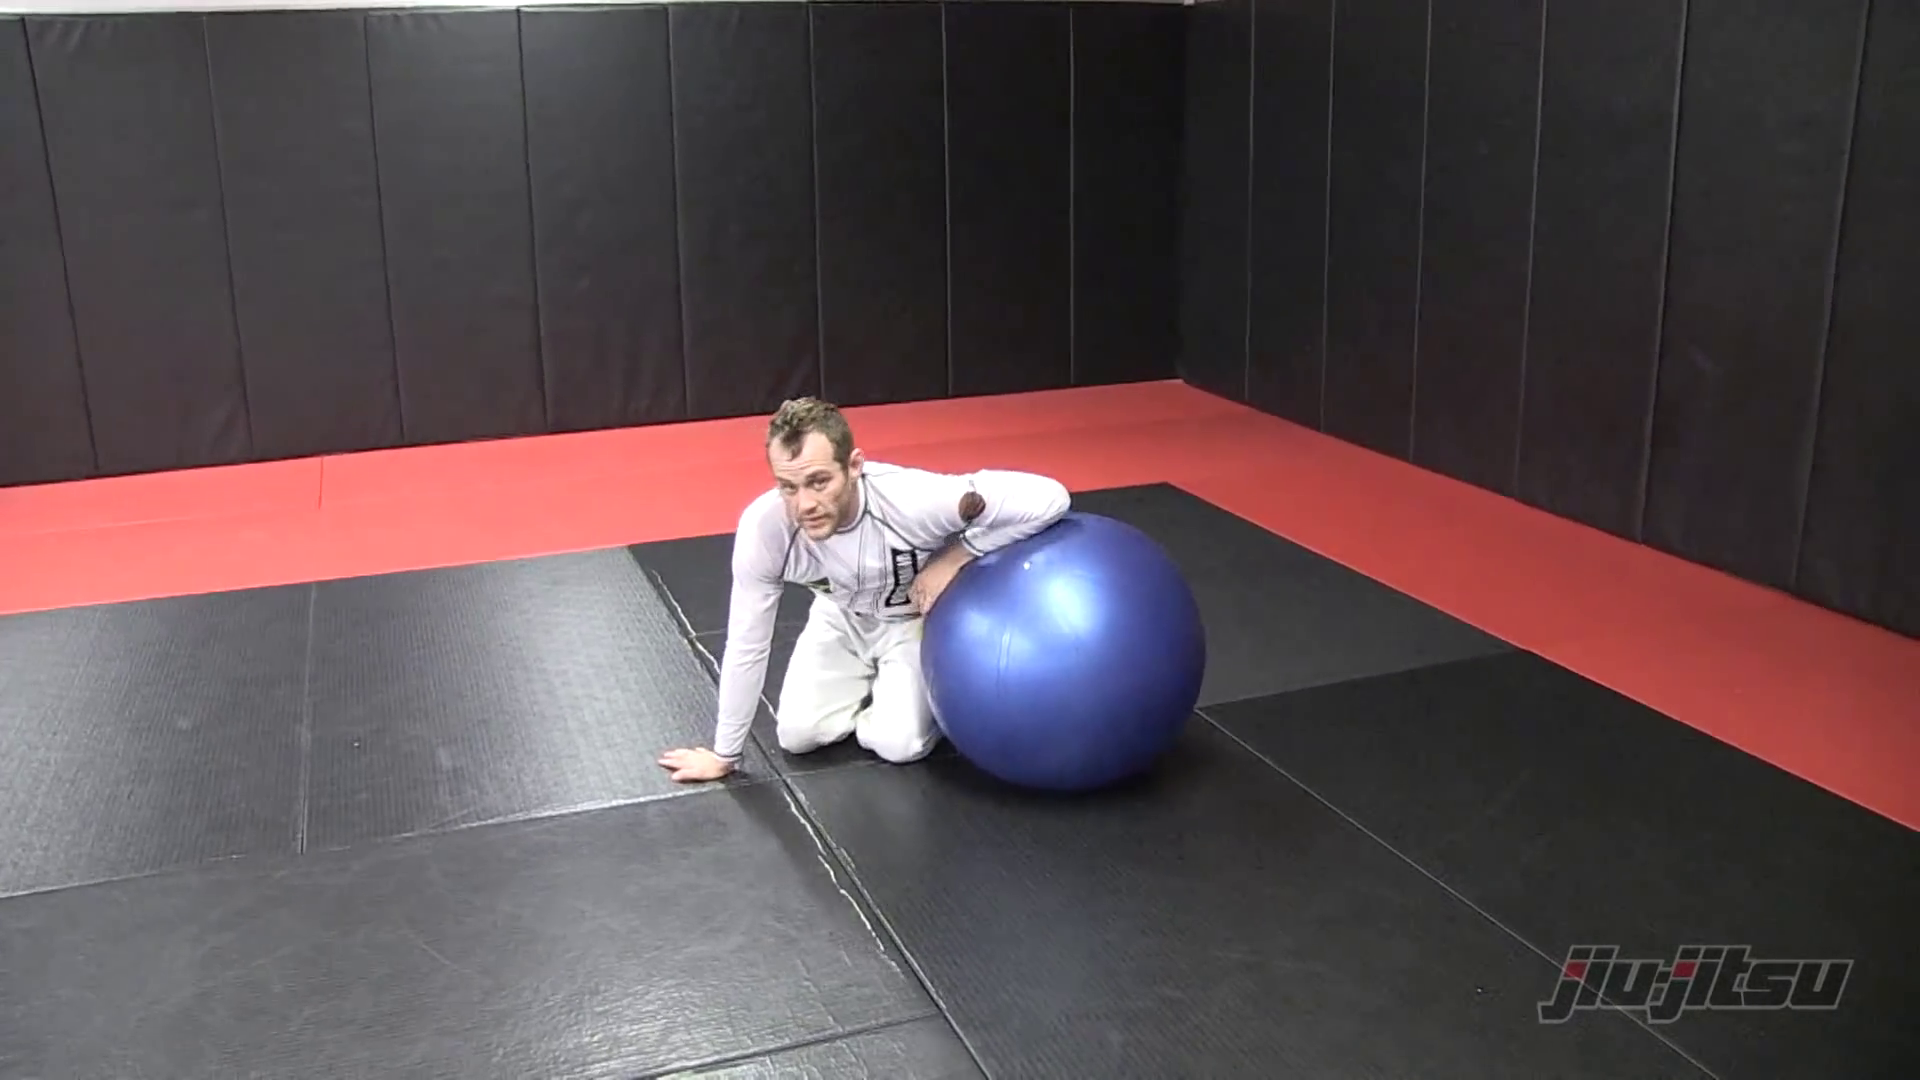yogaball: (909, 497, 1226, 816)
